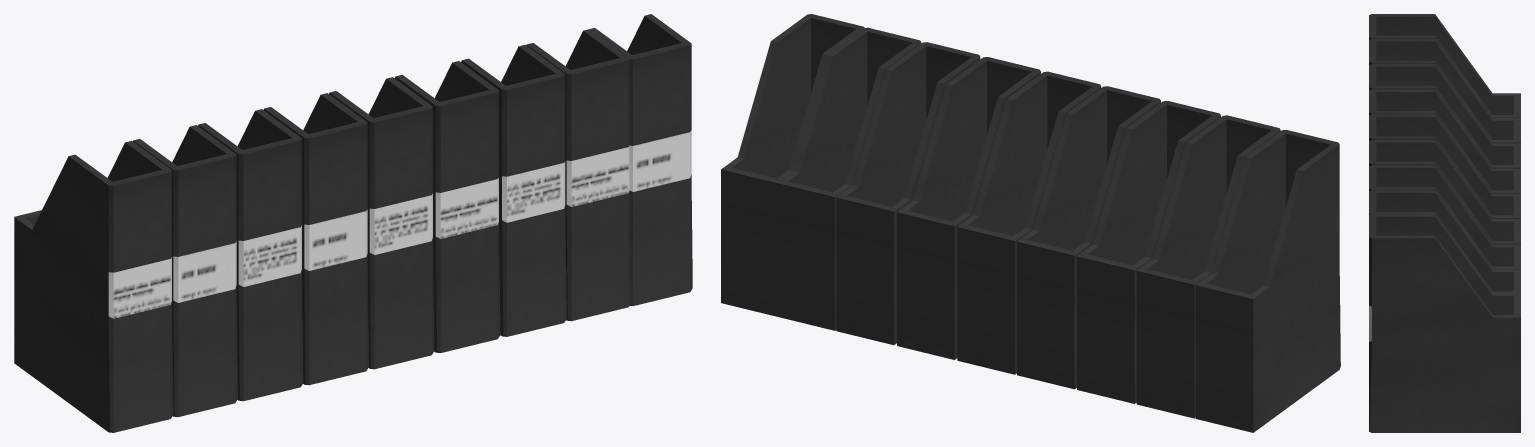
The model's file is document_folder_group_2.fbx.
3 renders of one model, left to right at view 1: azimuth 30°, elevation 25°; view 2: azimuth 150°, elevation 25°; view 3: azimuth 270°, elevation 25°, orthographic. The views are drawn at different scales.
Visible parts, largest first — view 1: document_folder_group_2; view 2: document_folder_group_2; view 3: document_folder_group_2.
Part boxes in pixels (bbox=[...]): document_folder_group_2: bbox=[14, 14, 692, 432]; document_folder_group_2: bbox=[721, 14, 1340, 432]; document_folder_group_2: bbox=[1369, 14, 1520, 432].
Size of the model in its own units: 76.39 by 30.92 by 21.86.
